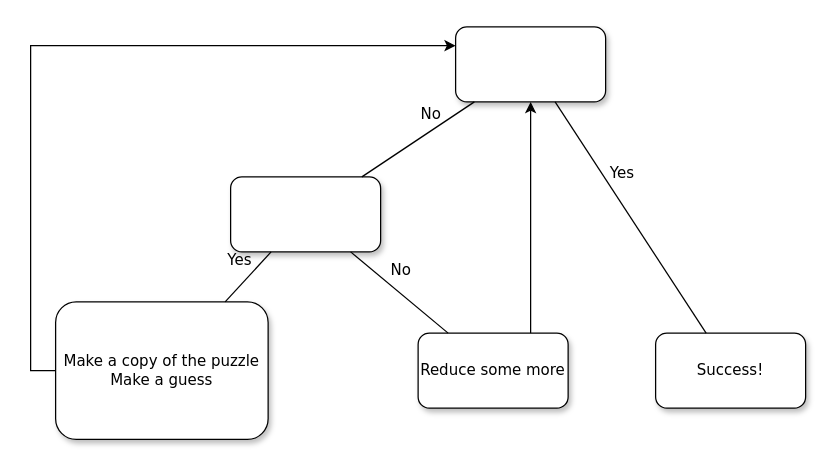
The diagram is 835 pixels wide and 470 high, and some of its shapes have lost their labels. The centre of each missing label's shape, as x and y in pixels:
Are we stuck?: the point at 306,216
Is the puzzle solved?: the point at 531,66
